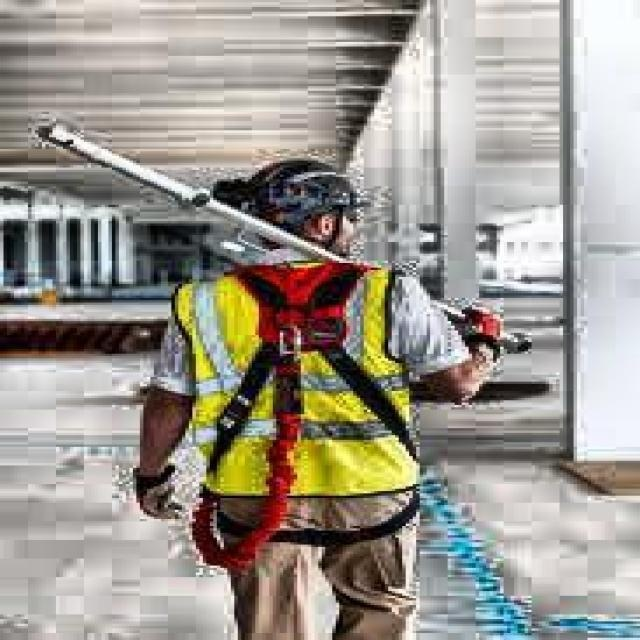Arnes_seguridad: (218, 256, 425, 493)
